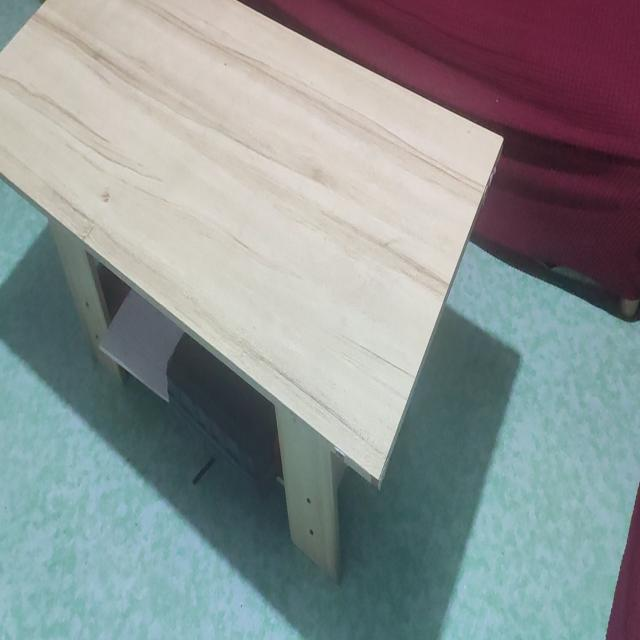table: (0, 0, 512, 591)
